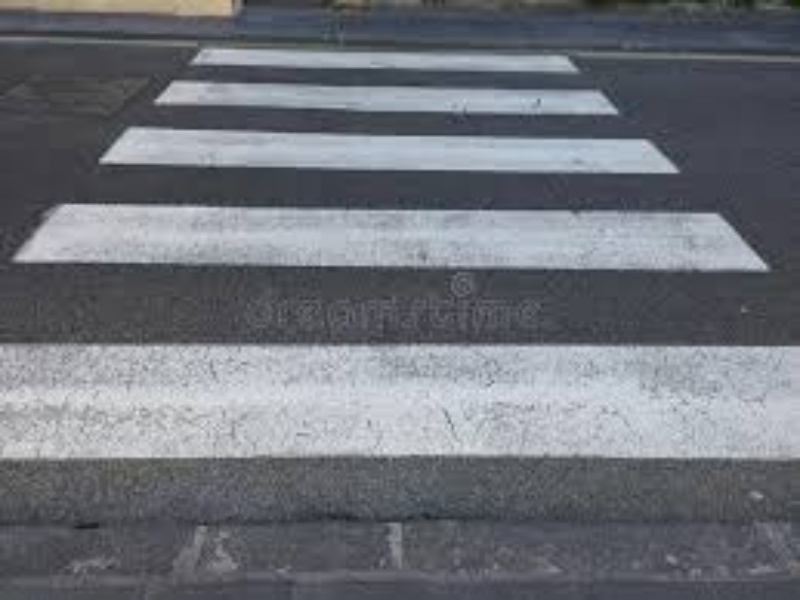zebra cross: (1, 46, 799, 468)
